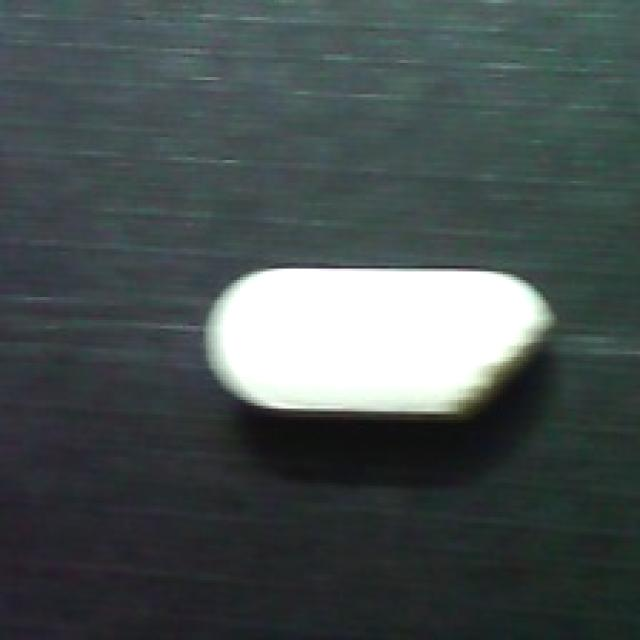defected: (203, 257, 574, 426)
